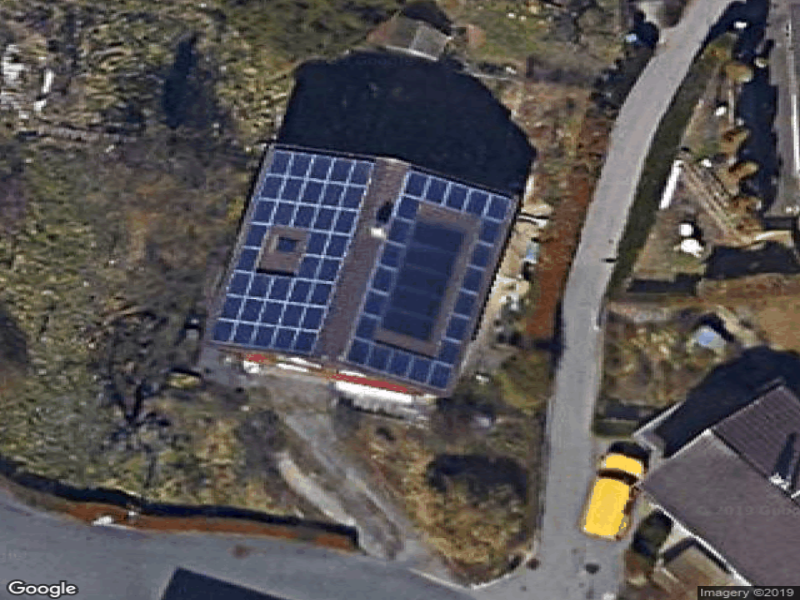pv: (213, 145, 515, 398)
